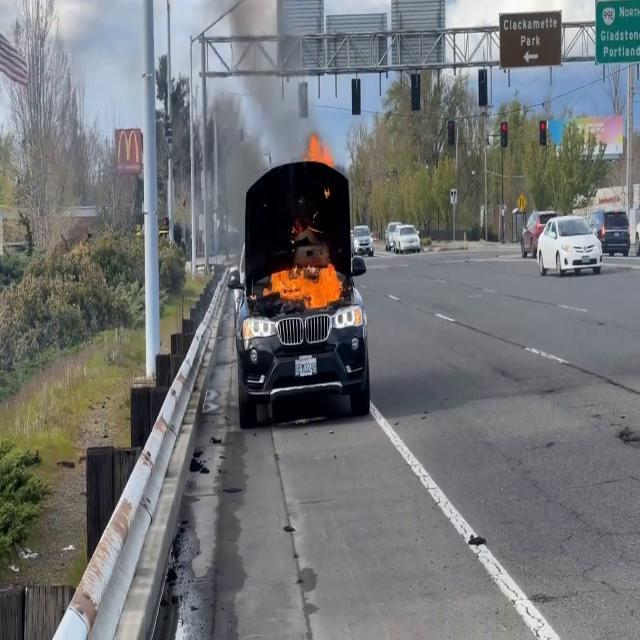Fire: (262, 253, 346, 311), (304, 130, 332, 168)
